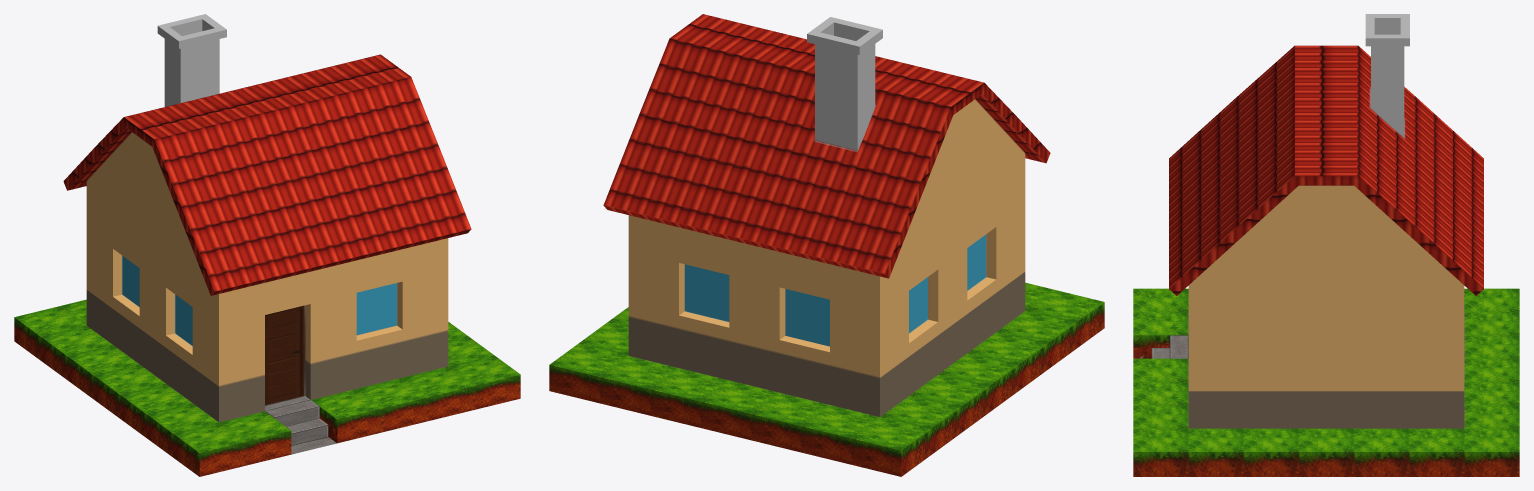
The model's file is rumah 3.fbx.
3 renders of one model, left to right at view 1: azimuth 30°, elevation 25°; view 2: azimuth 150°, elevation 25°; view 3: azimuth 270°, elevation 25°, orthographic. The views are drawn at different scales.
Visible parts, largest first — view 1: fix.002; view 2: fix.002; view 3: fix.002.
Boxes of the visible parts, box(x1,y1,x2,y2) form: fix.002: box(14, 14, 520, 476); fix.002: box(549, 14, 1104, 476); fix.002: box(1133, 14, 1519, 476).
Size of the model in its own units: 700 by 700 by 691.
1 material, 1 textured.
